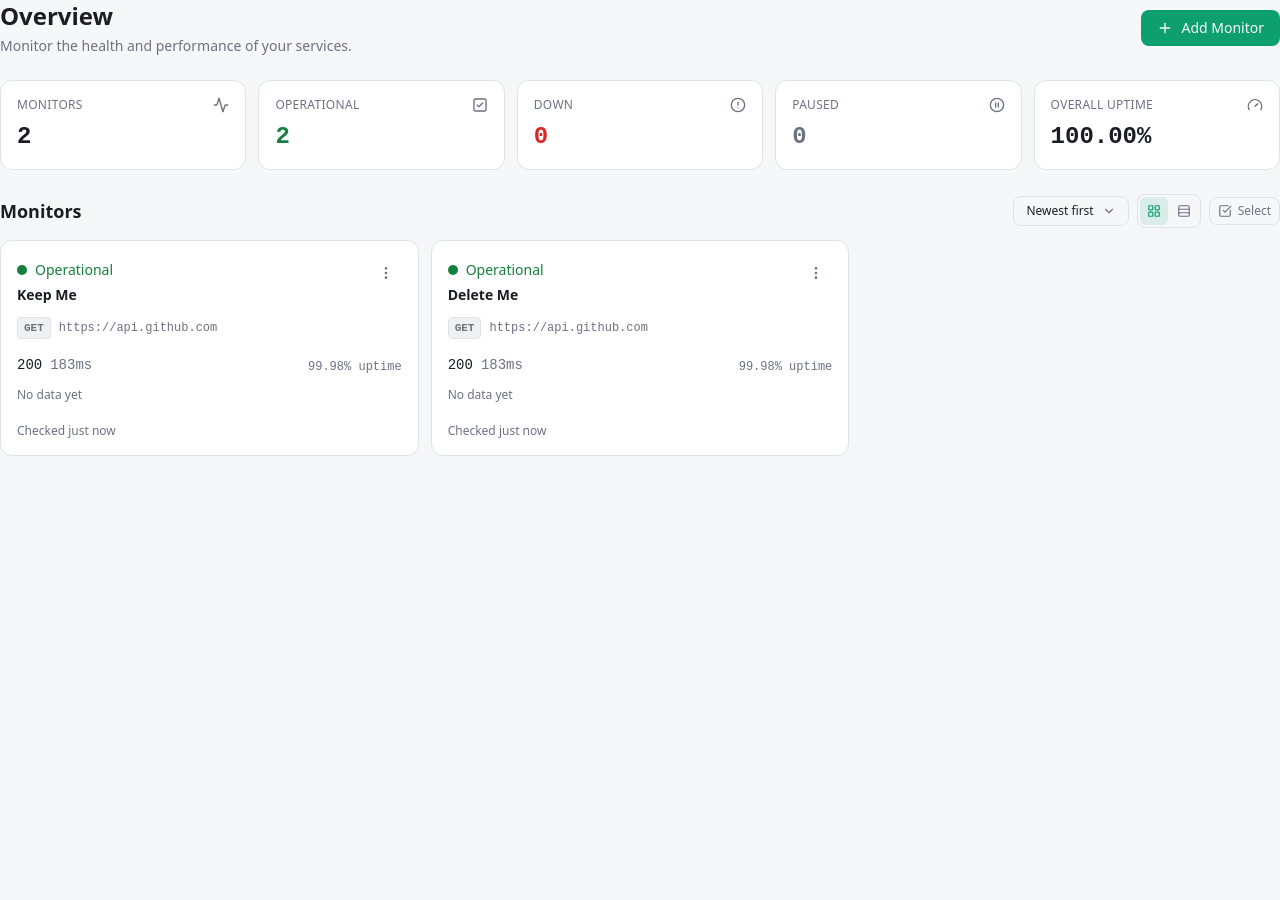
Test: Dashboard › clicking Select switches to list view, and bulk delete removes only the checked monitors
This screenshot has width=1280, height=900.
Expected: the heading "Keep Me" is shown, [17, 285, 77, 304]
Click the button with aria-label "Select monitors".
click(1244, 211)  # box [1209, 197, 1279, 225]
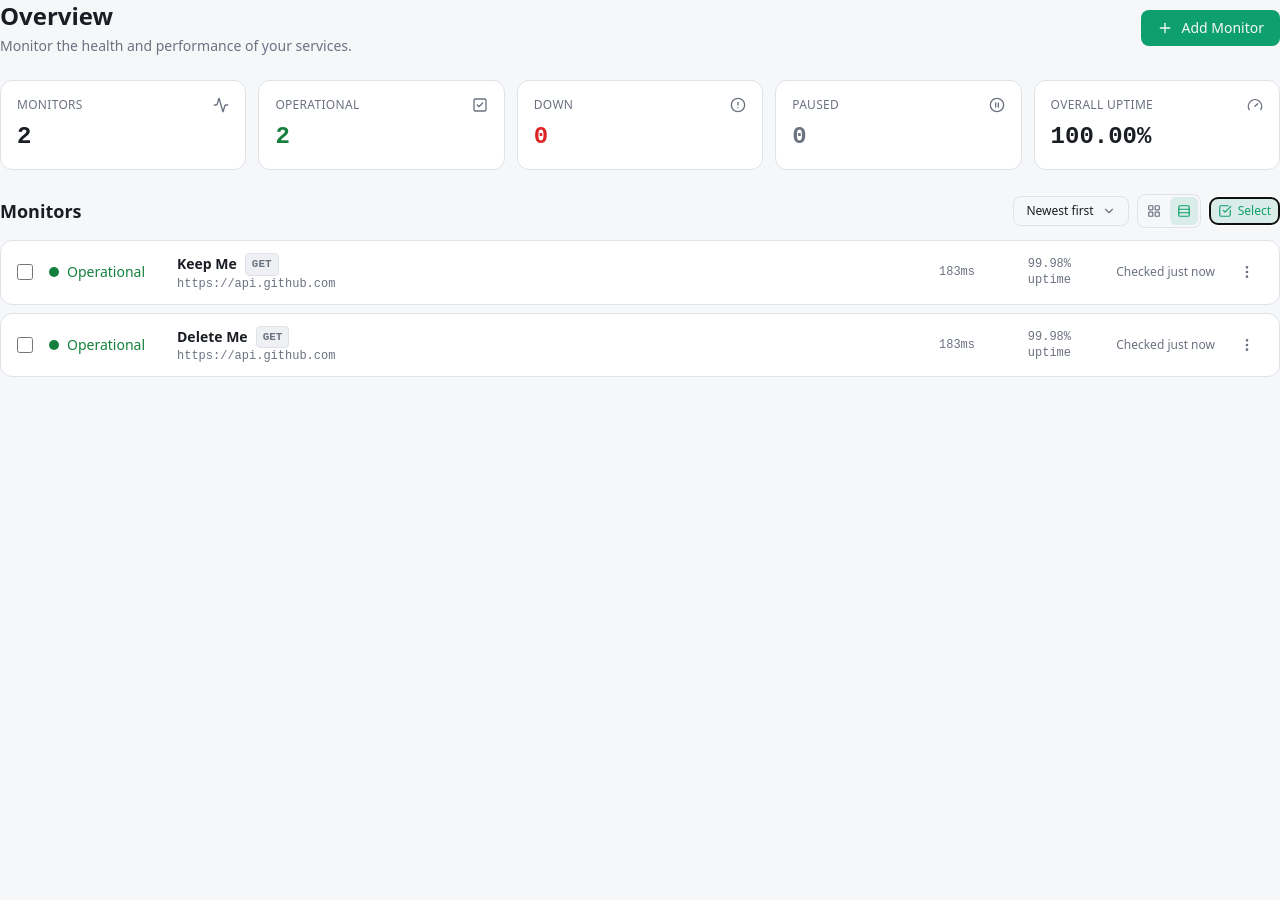
Click the checkbox named "Select Delete Me" in the row of "Delete Me".
click(25, 345)  # box [17, 337, 33, 353]
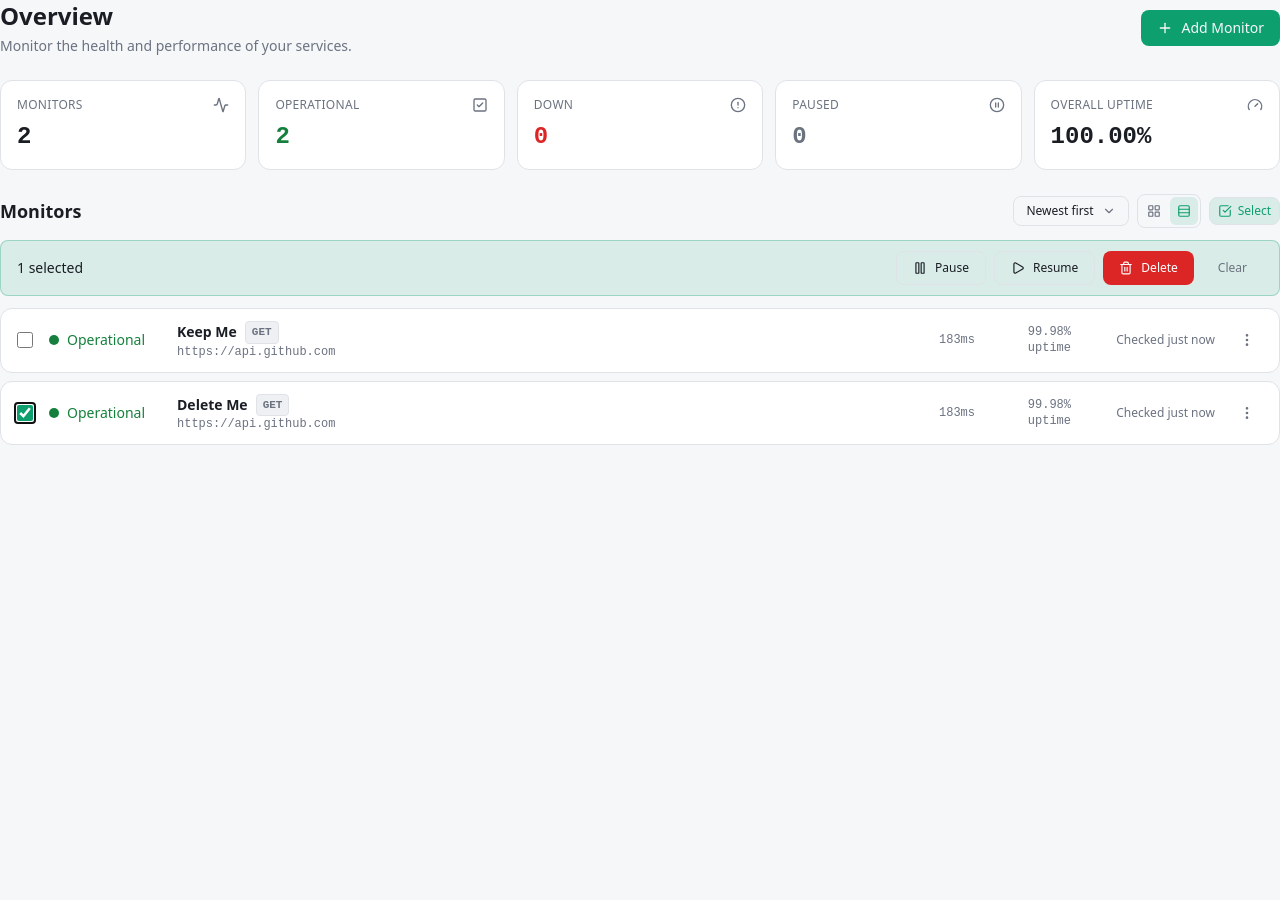
Click the button "Delete".
click(1149, 268)  # box [1103, 251, 1194, 285]
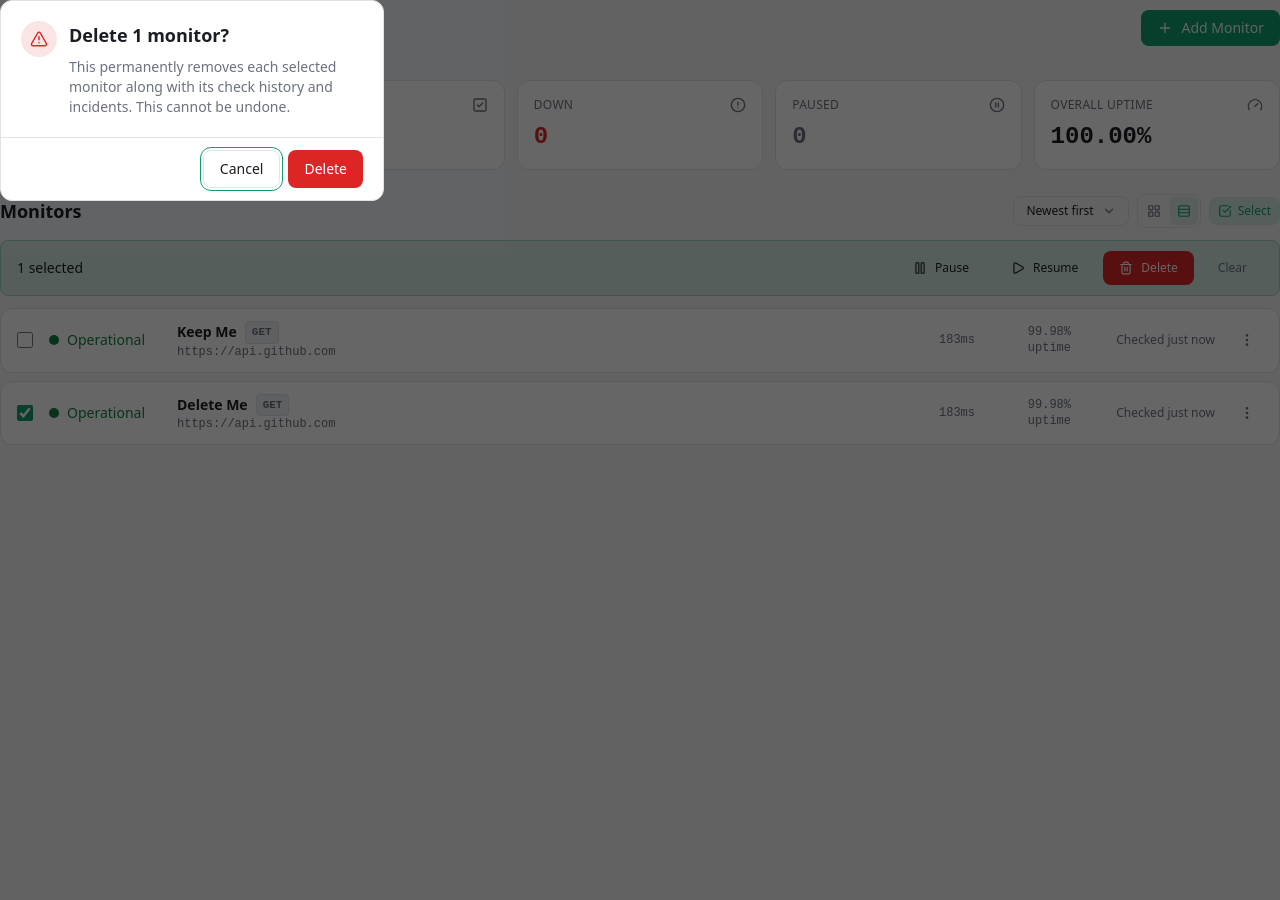
Click the button "Delete".
click(326, 169)  # box [288, 150, 363, 188]
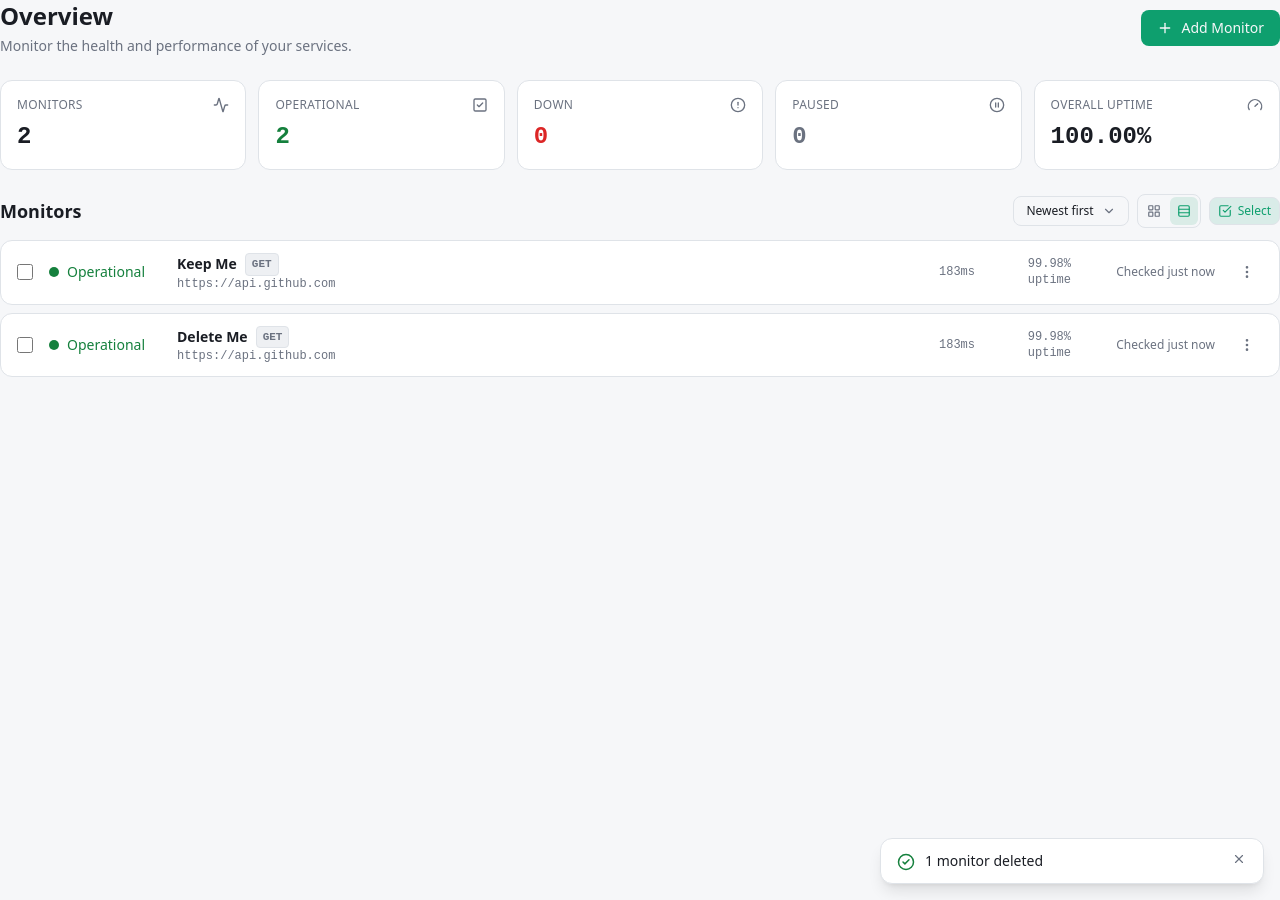
Result: the text "1 monitor deleted" is shown at [925, 851, 1043, 870]
